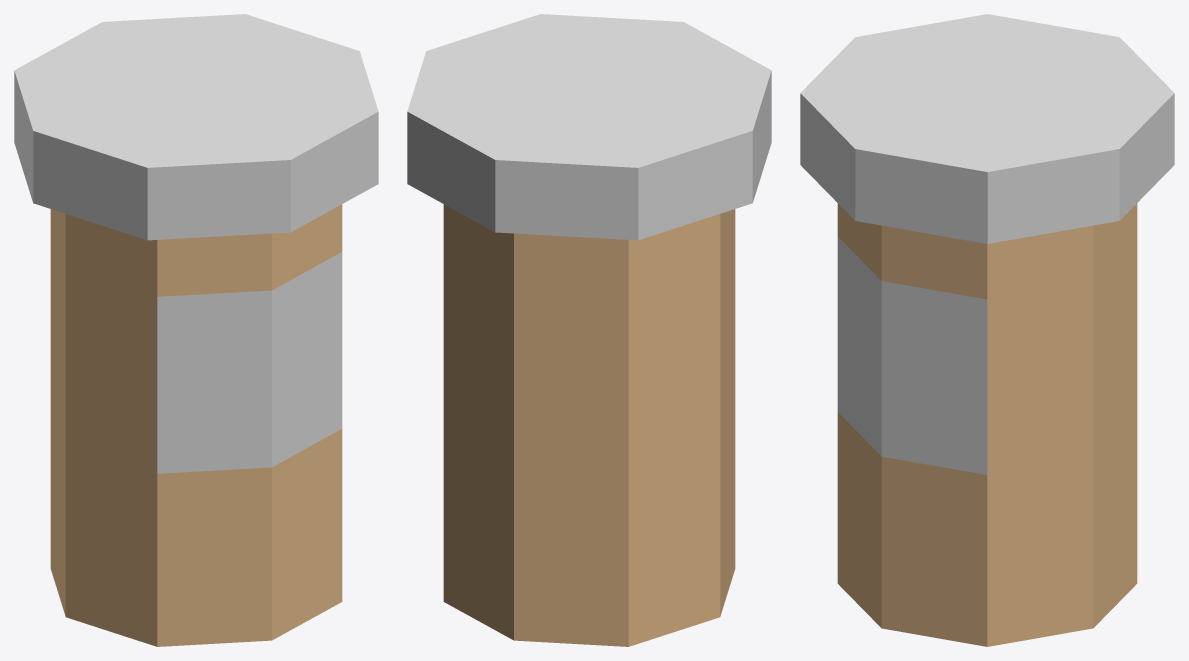
Rendered from Meds.fbx.
The picture shows the model from 3 angles, left to right: view 1: azimuth 30°, elevation 25°; view 2: azimuth 150°, elevation 25°; view 3: azimuth 270°, elevation 25°; orthographic projection.
Visible parts, largest first — view 1: Cylinder; view 2: Cylinder; view 3: Cylinder.
Boxes of the visible parts, x1,y1,x2,y2 form: Cylinder: [14, 14, 378, 646]; Cylinder: [407, 14, 771, 646]; Cylinder: [800, 14, 1174, 646].
Size of the model in its own units: 250 by 362 by 250.
